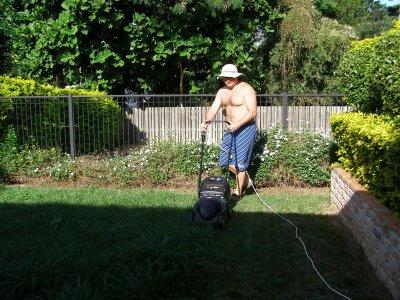person: (200, 64, 261, 207)
